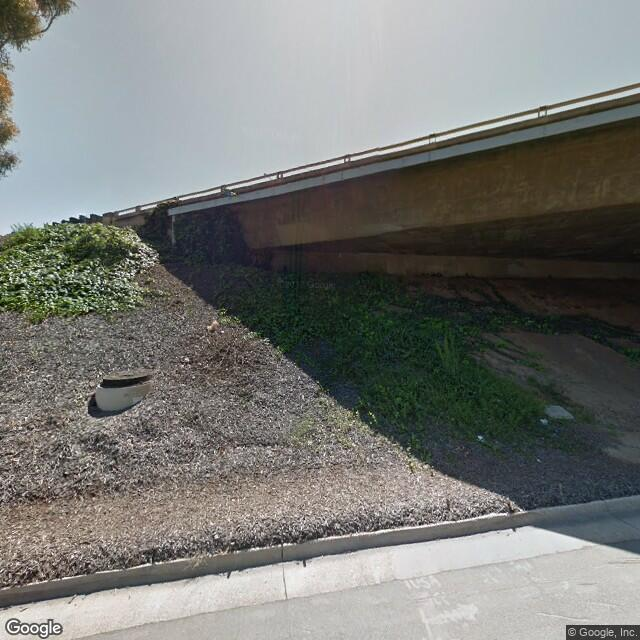litter: (534, 414, 552, 427)
